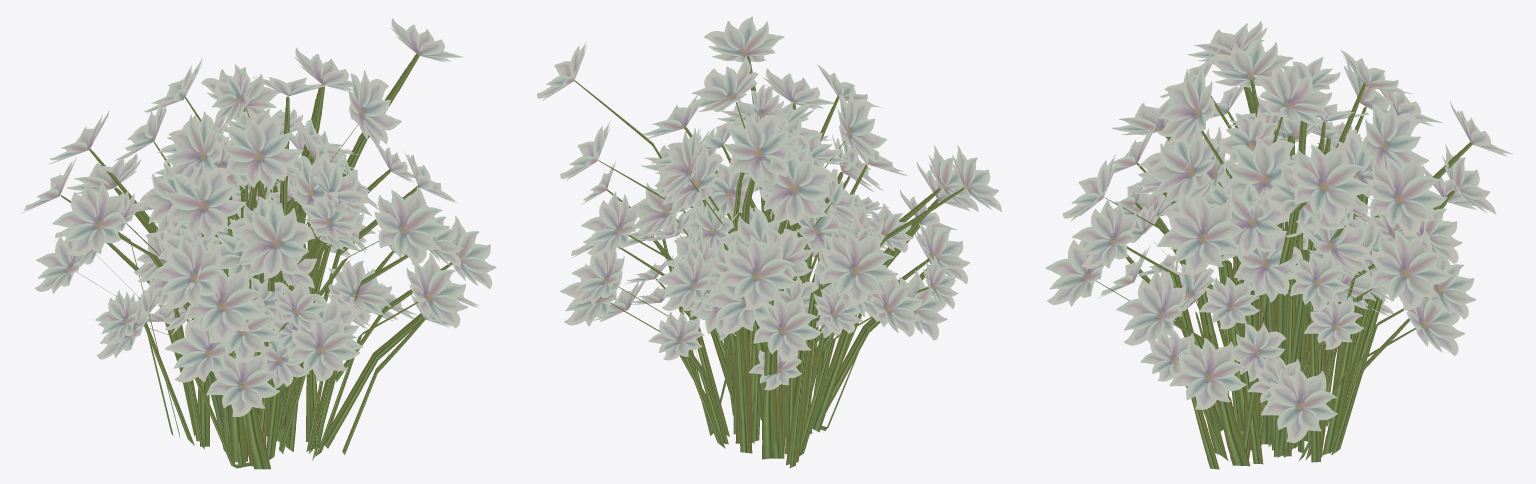
Rendered from SM_Ground_White_Flower_C.fbx.
3 renders of one model, left to right at view 1: azimuth 30°, elevation 25°; view 2: azimuth 150°, elevation 25°; view 3: azimuth 270°, elevation 25°, orthographic. The views are drawn at different scales.
Visible parts, largest first — view 1: SM_Ground_White_Flower_C_LOD0; view 2: SM_Ground_White_Flower_C_LOD0; view 3: SM_Ground_White_Flower_C_LOD0.
Boxes of the visible parts, <box> form: SM_Ground_White_Flower_C_LOD0: <box>20,18,496,469</box>; SM_Ground_White_Flower_C_LOD0: <box>537,16,1001,467</box>; SM_Ground_White_Flower_C_LOD0: <box>1045,21,1512,469</box>.
Bounding box in the file's own units: 33.38 × 30.23 × 28.01.
1 material, 1 textured.
